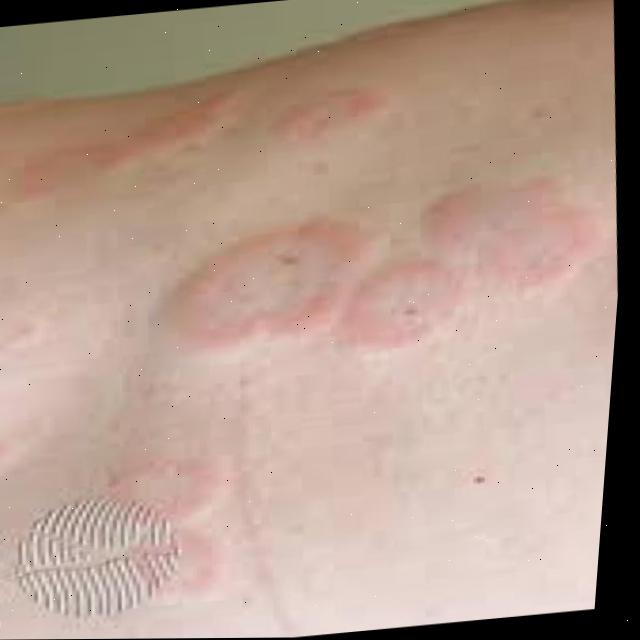Eczema: (202, 242, 569, 375), (40, 77, 419, 175), (82, 432, 233, 620)
